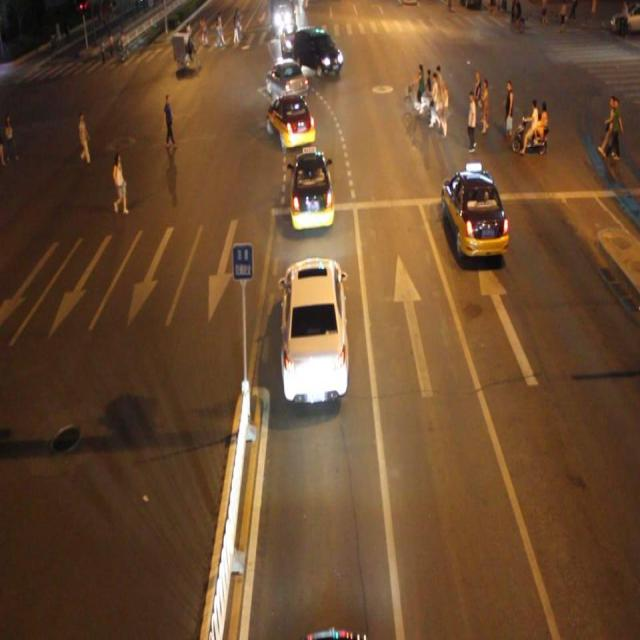car: (280, 257, 347, 401), (441, 166, 506, 257), (288, 148, 334, 228), (266, 92, 316, 147), (293, 24, 340, 72), (266, 58, 307, 104)
